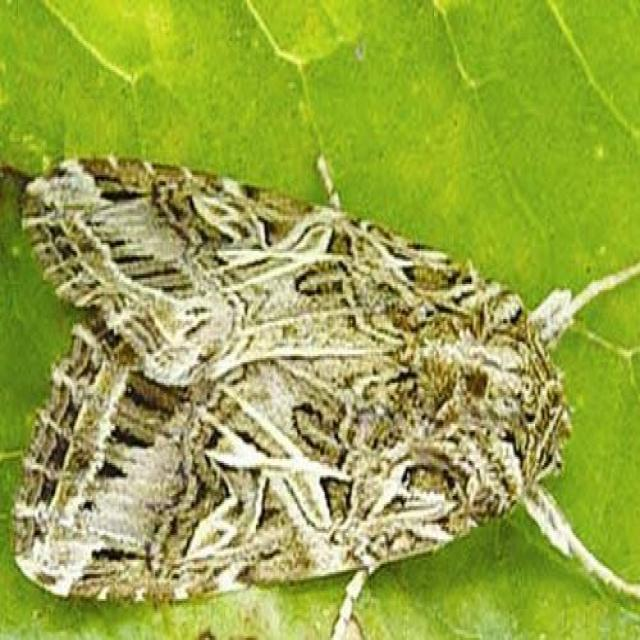armyworm: (24, 131, 618, 627)
